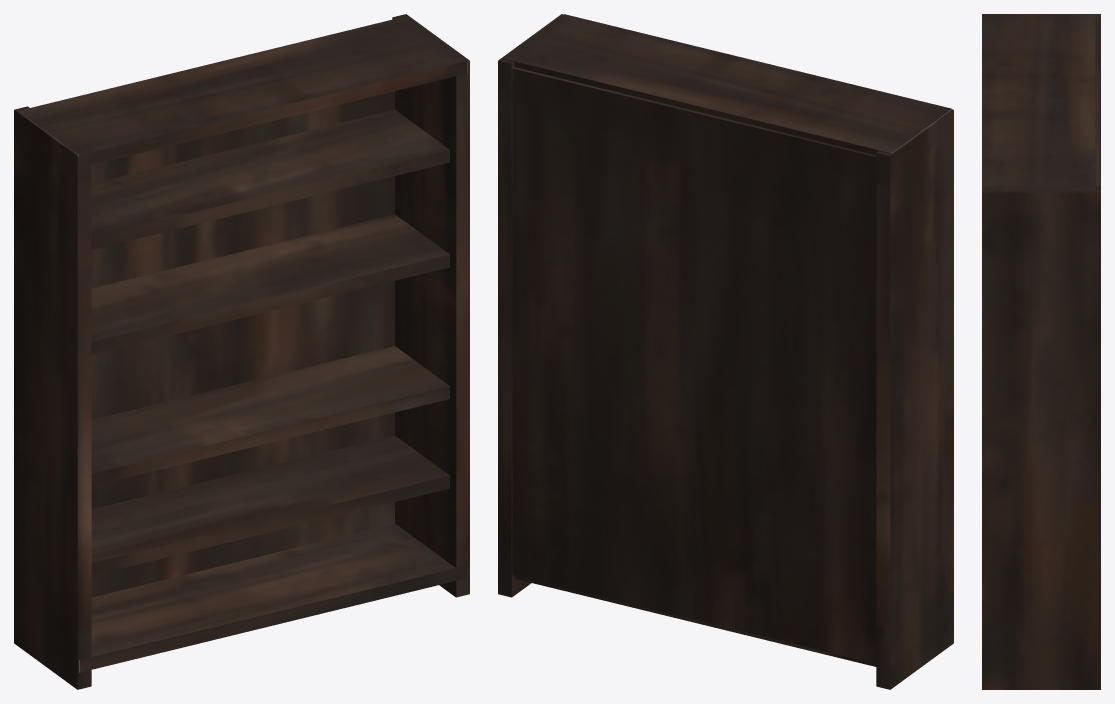
Rendered from 1kirjahylly_olohuone.fbx.
3 renders of one model, left to right at view 1: azimuth 30°, elevation 25°; view 2: azimuth 150°, elevation 25°; view 3: azimuth 270°, elevation 25°, orthographic. The views are drawn at different scales.
Visible parts, largest first — view 1: pCube2; view 2: pCube2; view 3: pCube2.
Boxes of the visible parts, x1=… form: pCube2: x1=14, y1=14, x2=469, y2=689; pCube2: x1=498, y1=14, x2=953, y2=689; pCube2: x1=982, y1=14, x2=1100, y2=689.
Bounding box in the file's own units: 7.45 × 9.69 × 2.1.
